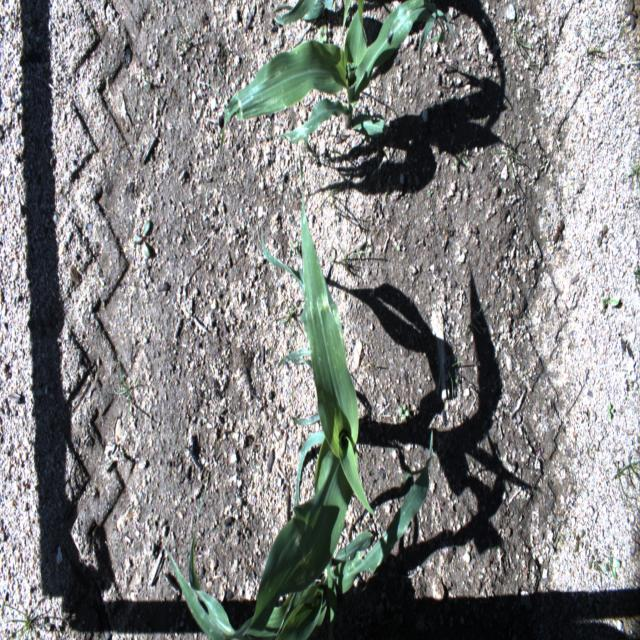crop: (166, 146, 374, 640), (242, 428, 434, 639), (218, 0, 448, 157), (272, 0, 334, 41), (340, 0, 350, 37), (356, 0, 365, 27)
weed: (107, 344, 139, 418), (493, 124, 527, 184), (3, 597, 45, 639), (276, 294, 305, 341), (331, 244, 372, 271), (613, 461, 639, 501), (507, 15, 533, 51), (580, 22, 601, 63), (174, 16, 196, 52), (133, 220, 150, 259), (528, 43, 550, 71), (448, 360, 463, 399), (627, 450, 640, 489), (320, 187, 346, 206), (200, 80, 223, 98), (604, 556, 621, 579), (139, 57, 150, 92), (628, 162, 640, 194), (454, 147, 468, 171), (573, 527, 584, 553), (553, 220, 565, 242), (597, 223, 607, 246), (630, 532, 640, 554), (602, 296, 620, 308), (318, 24, 328, 45), (398, 402, 410, 419), (588, 549, 598, 569), (474, 303, 483, 325), (629, 373, 639, 390), (290, 240, 298, 256), (608, 402, 614, 418), (455, 370, 460, 384)
